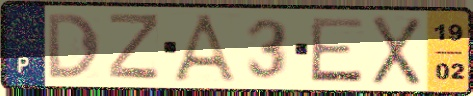3: (243, 16, 292, 82)
A: (168, 12, 244, 86)
D: (44, 12, 103, 81)
E: (308, 16, 367, 85)
X: (370, 14, 425, 88)
Z: (106, 11, 162, 83)
